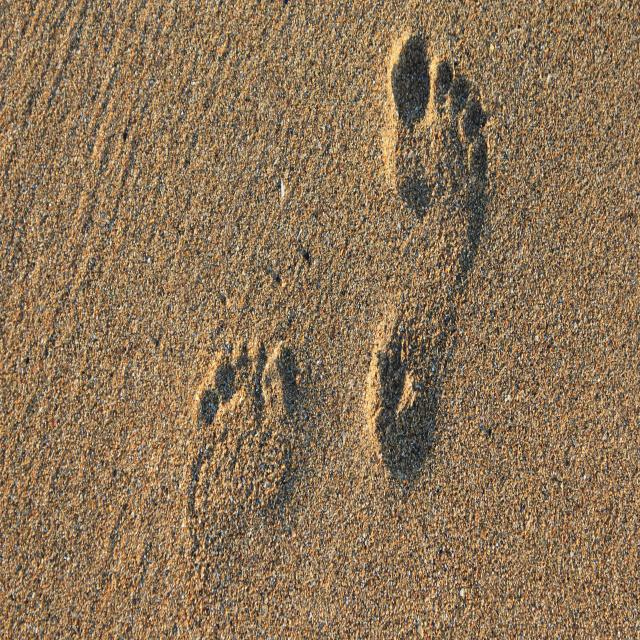human_foot_print: (117, 17, 582, 617)
